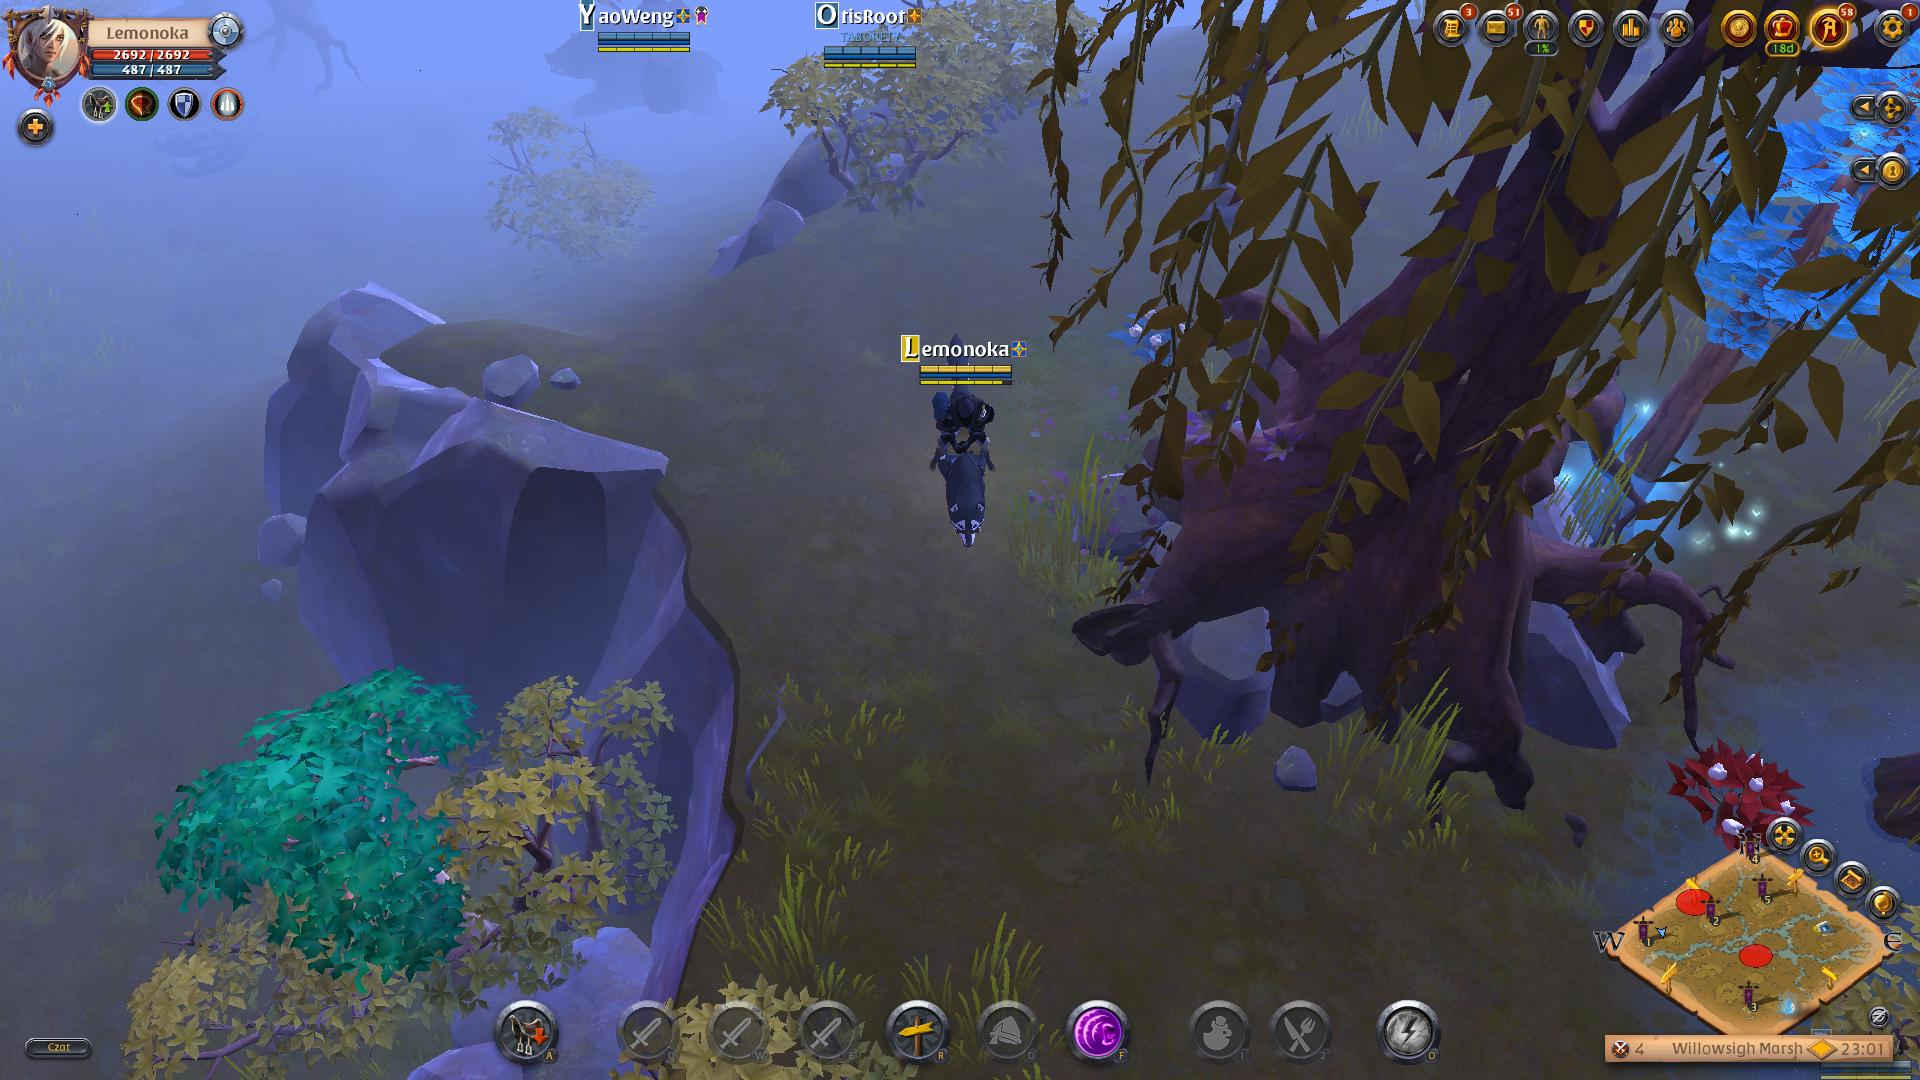wood tier 3: (148, 658, 479, 985)
